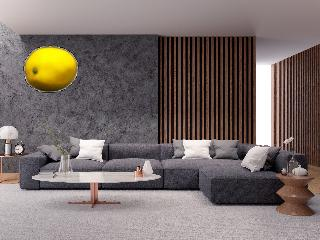lemon: (25, 49, 76, 92)
